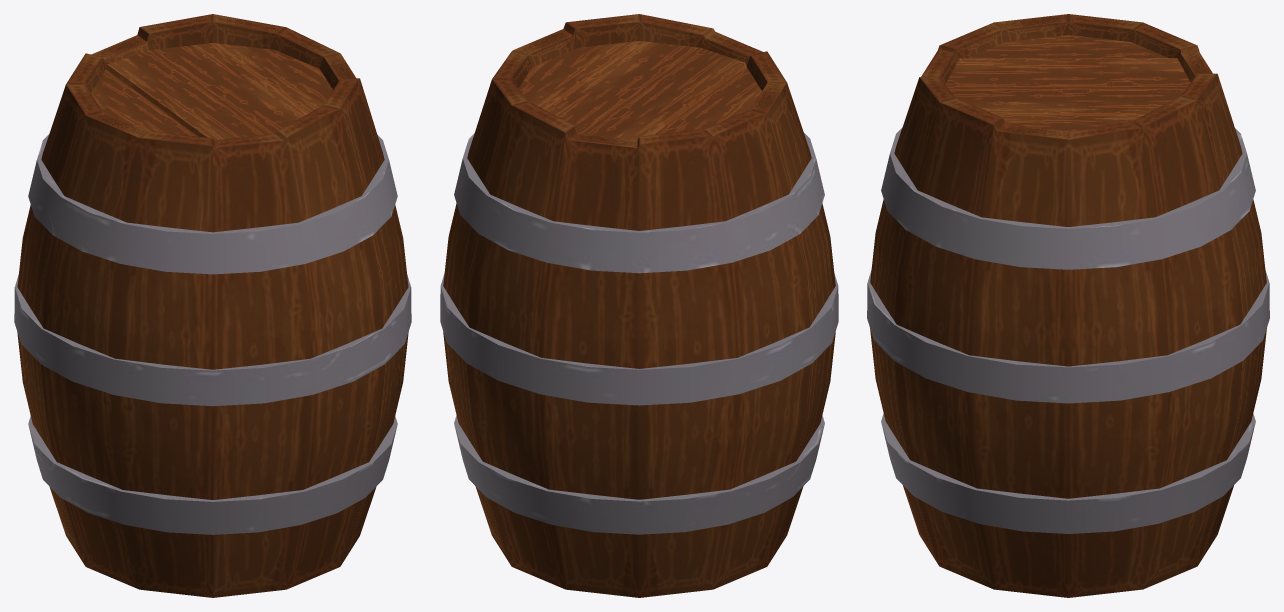
Rendered from Barrel_Dark.gltf.
The picture shows the model from 3 angles, left to right: view 1: azimuth 30°, elevation 25°; view 2: azimuth 150°, elevation 25°; view 3: azimuth 270°, elevation 25°; orthographic projection.
Visible parts, largest first — view 1: Barrel_Dark; view 2: Barrel_Dark; view 3: Barrel_Dark.
Part boxes in pixels (bbox=[...]): Barrel_Dark: bbox=[14, 14, 411, 597]; Barrel_Dark: bbox=[440, 14, 838, 597]; Barrel_Dark: bbox=[867, 14, 1269, 597].
Bounding box in the file's own units: 0.698 × 0.8915 × 0.698.
2 materials, 2 textured.
